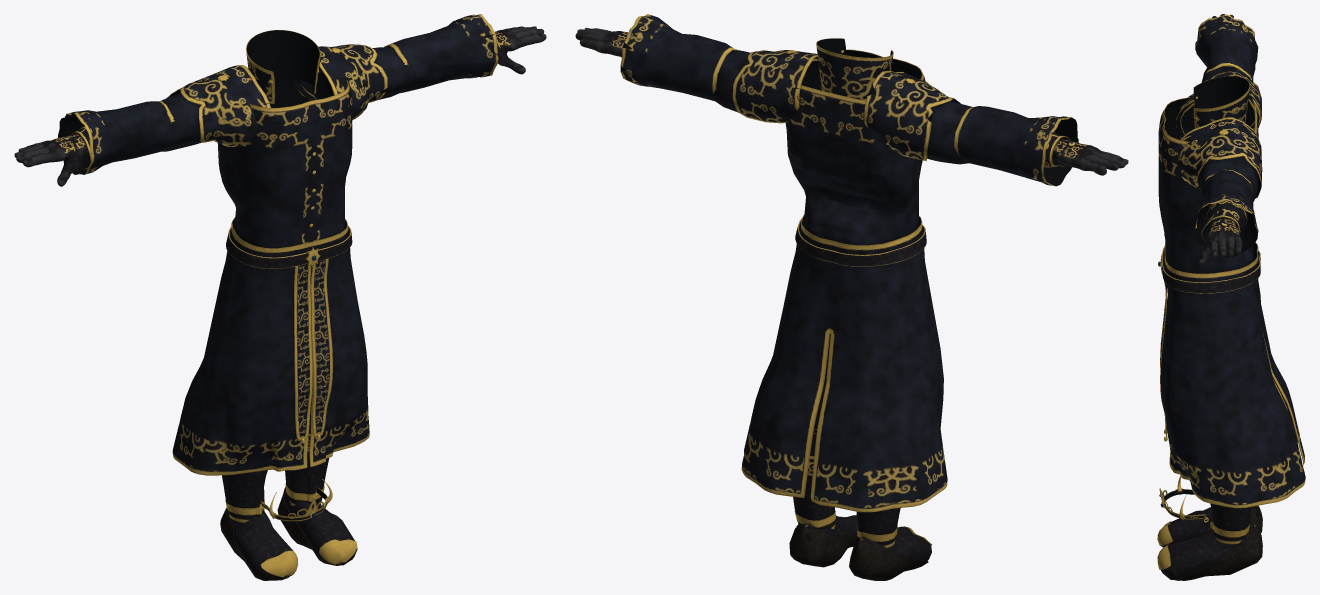
Rendered from mage_infernal.glb.
3 renders of one model, left to right at view 1: azimuth 30°, elevation 25°; view 2: azimuth 150°, elevation 25°; view 3: azimuth 270°, elevation 25°, orthographic. The views are drawn at different scales.
Parts seen in each view (by area): view 1: robe, feet, gloves, circlet; view 2: robe, feet, gloves; view 3: robe, feet, gloves, circlet.
Boxes of the visible parts, x1=… form: robe: x1=58, y1=14, x2=498, y2=475; feet: x1=220, y1=407, x2=357, y2=580; gloves: x1=14, y1=26, x2=546, y2=186; circlet: x1=259, y1=479, x2=332, y2=521; robe: x1=620, y1=14, x2=1078, y2=512; feet: x1=789, y1=429, x2=931, y2=580; gloves: x1=575, y1=27, x2=1128, y2=175; robe: x1=1158, y1=14, x2=1305, y2=508; feet: x1=1157, y1=503, x2=1262, y2=580; gloves: x1=1198, y1=14, x2=1247, y2=264; circlet: x1=1159, y1=476, x2=1208, y2=522.
Bounding box in the file's own units: 1.8 × 1.67 × 0.4709.
4 materials, 4 textured.
